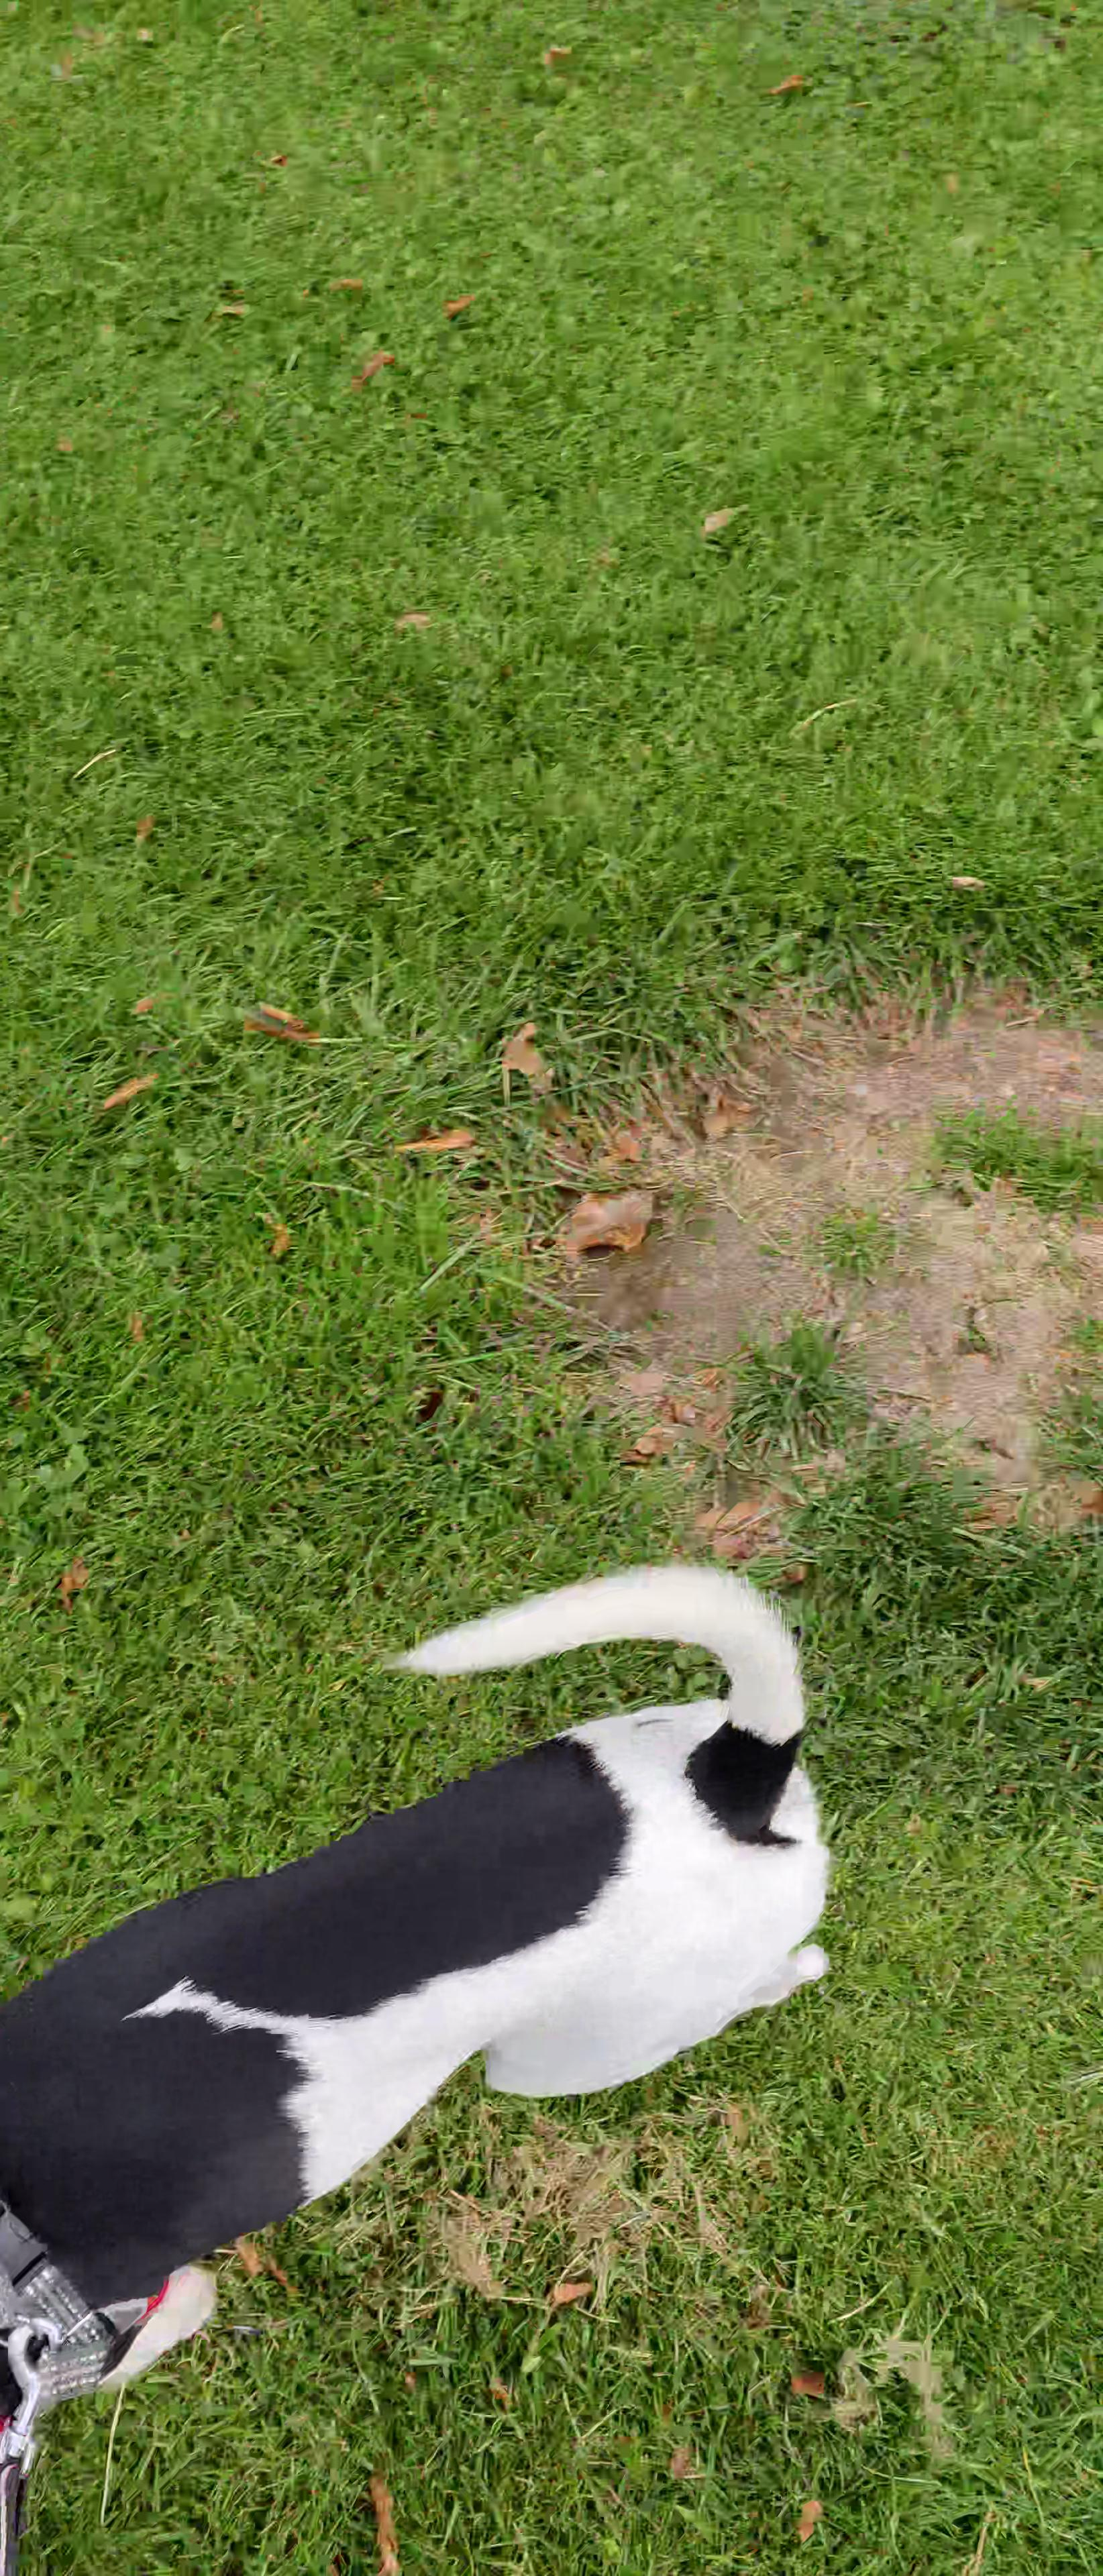Dog: (0, 1502, 912, 2512)
